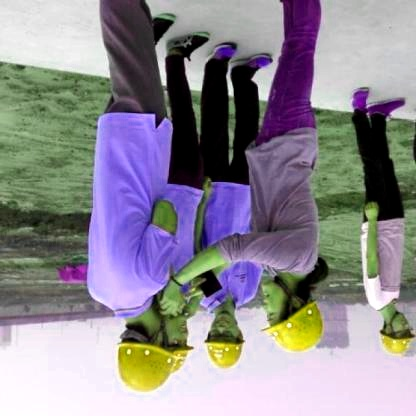red: (109, 339, 180, 396), (258, 300, 325, 356), (196, 335, 246, 372), (374, 327, 412, 358)
